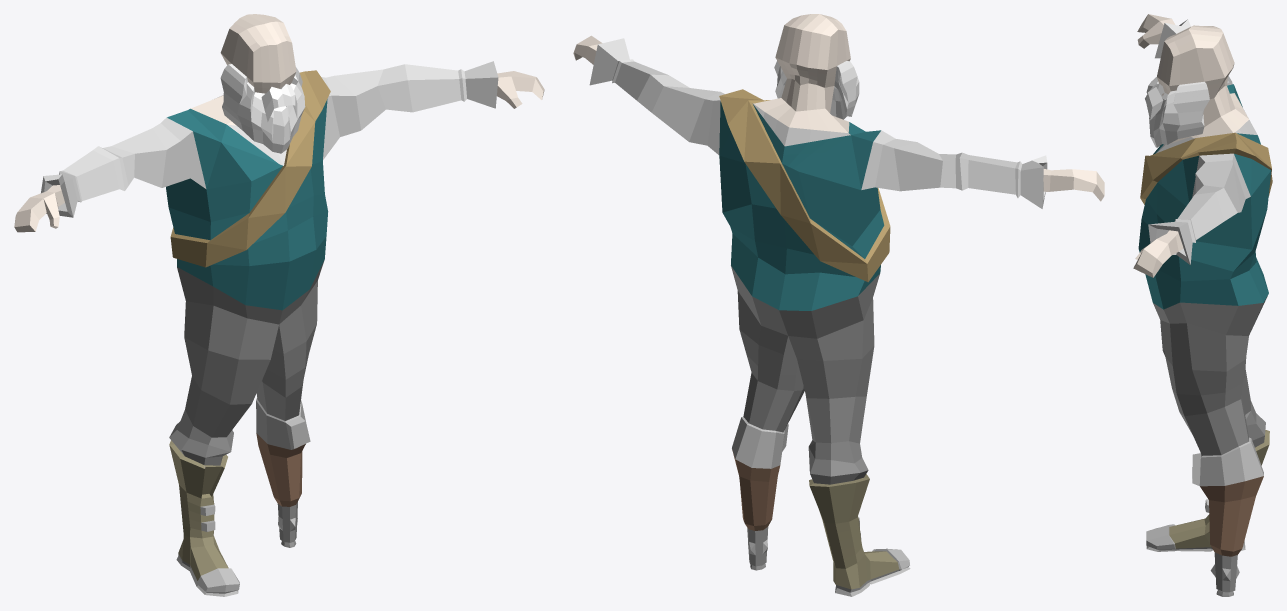
The model's file is Pirata 3.fbx.
3 renders of one model, left to right at view 1: azimuth 30°, elevation 25°; view 2: azimuth 150°, elevation 25°; view 3: azimuth 270°, elevation 25°, orthographic.
Parts seen in each view (by area): view 1: Circle; view 2: Circle; view 3: Circle.
Part boxes in pixels (bbox=[...]): Circle: bbox=[14, 14, 544, 596]; Circle: bbox=[573, 14, 1104, 596]; Circle: bbox=[1133, 14, 1272, 596].
Size of the model in its own units: 175 by 172 by 39.93.
